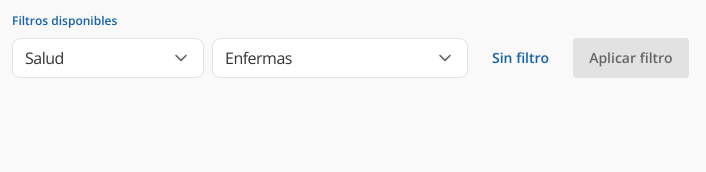
Test: FilterPanel inline › clears an applied filter with Sin filtro
Step 1. Click the button "Sin filtro" → [521, 58], box [476,38,565,78]
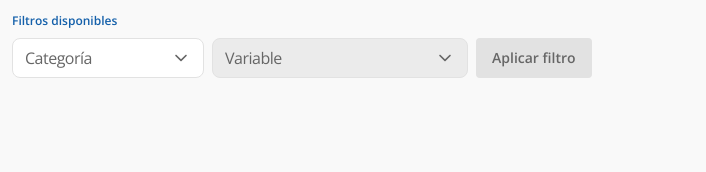
Expected: the dropdown labelled "Variable" is disabled, [212,38,468,78]
Expected: the button "Sin filtro" is gone
